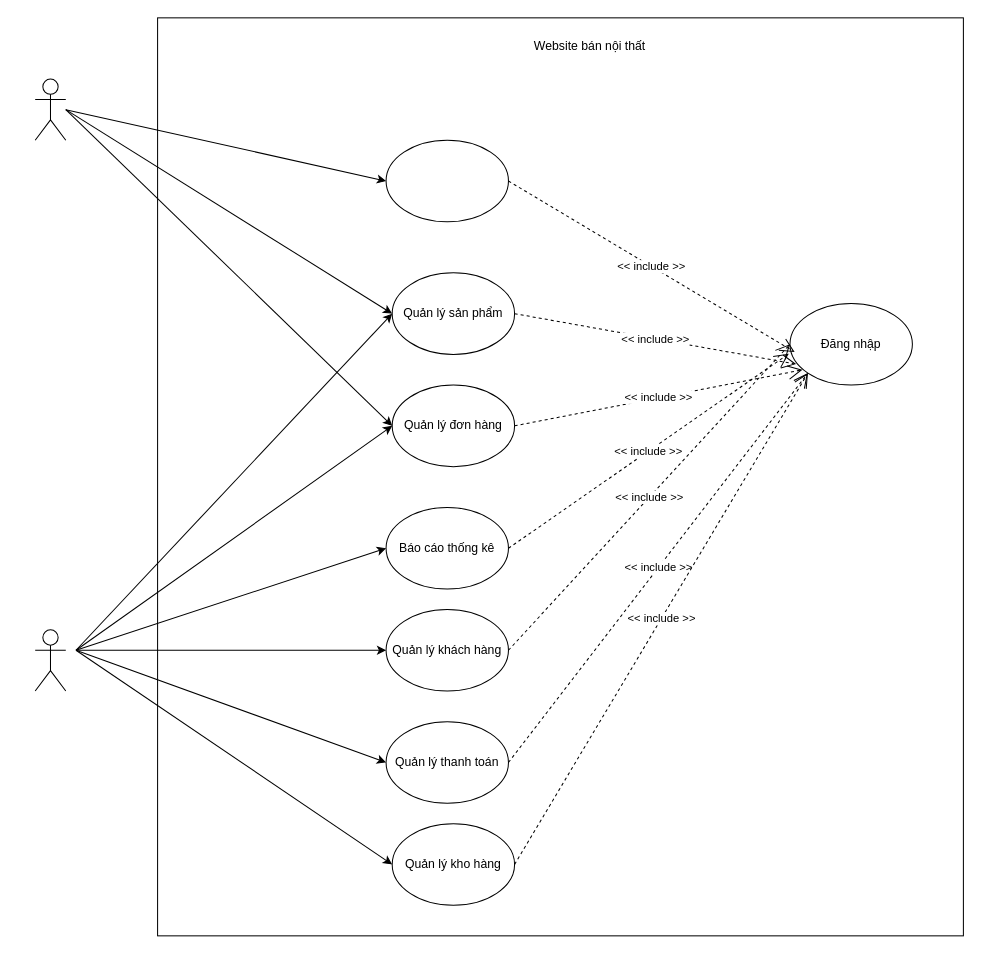
Some shapes in this 981 by 954 pixel diagram are drawn without their labels. The shapes that lost their labels are listed below. From the top down, each one's box as (x1, y1, x2, y2) in pixels, then its label:
(34, 78, 66, 140): Khách hàng
(385, 139, 508, 222): Quản lý giỏ hàng
(34, 629, 66, 691): Admin
